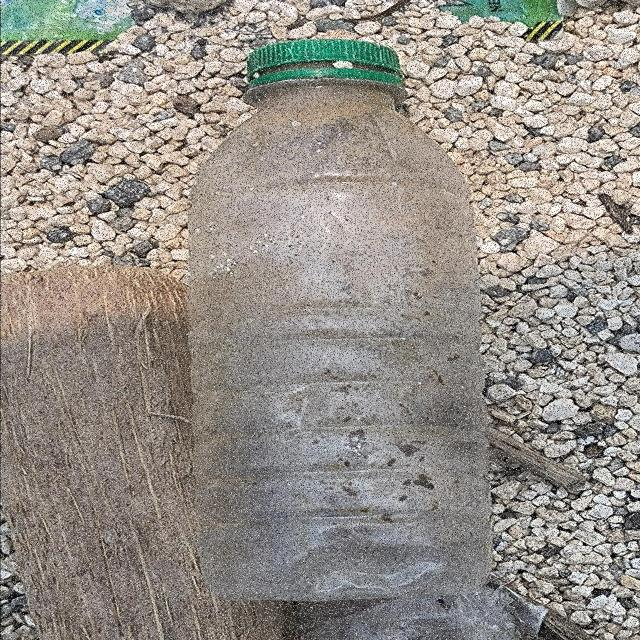plastic_waste: (183, 40, 495, 603)
